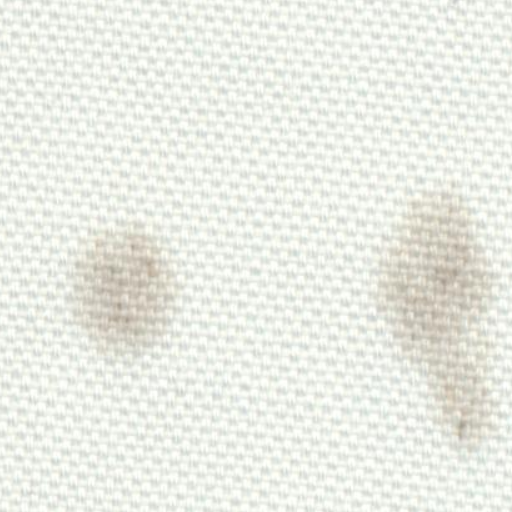WuZi: (368, 164, 504, 451), (48, 202, 184, 368)
